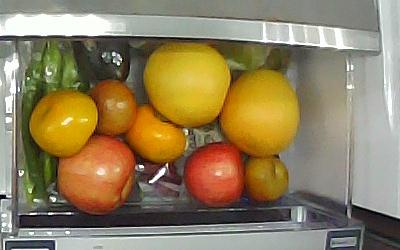apple: (57, 136, 135, 214), (185, 142, 243, 208)
grapefruit: (144, 41, 231, 128), (220, 69, 299, 155)
persimmon: (29, 89, 98, 156), (126, 104, 186, 163)
prune: (89, 79, 136, 136), (244, 156, 290, 204)
